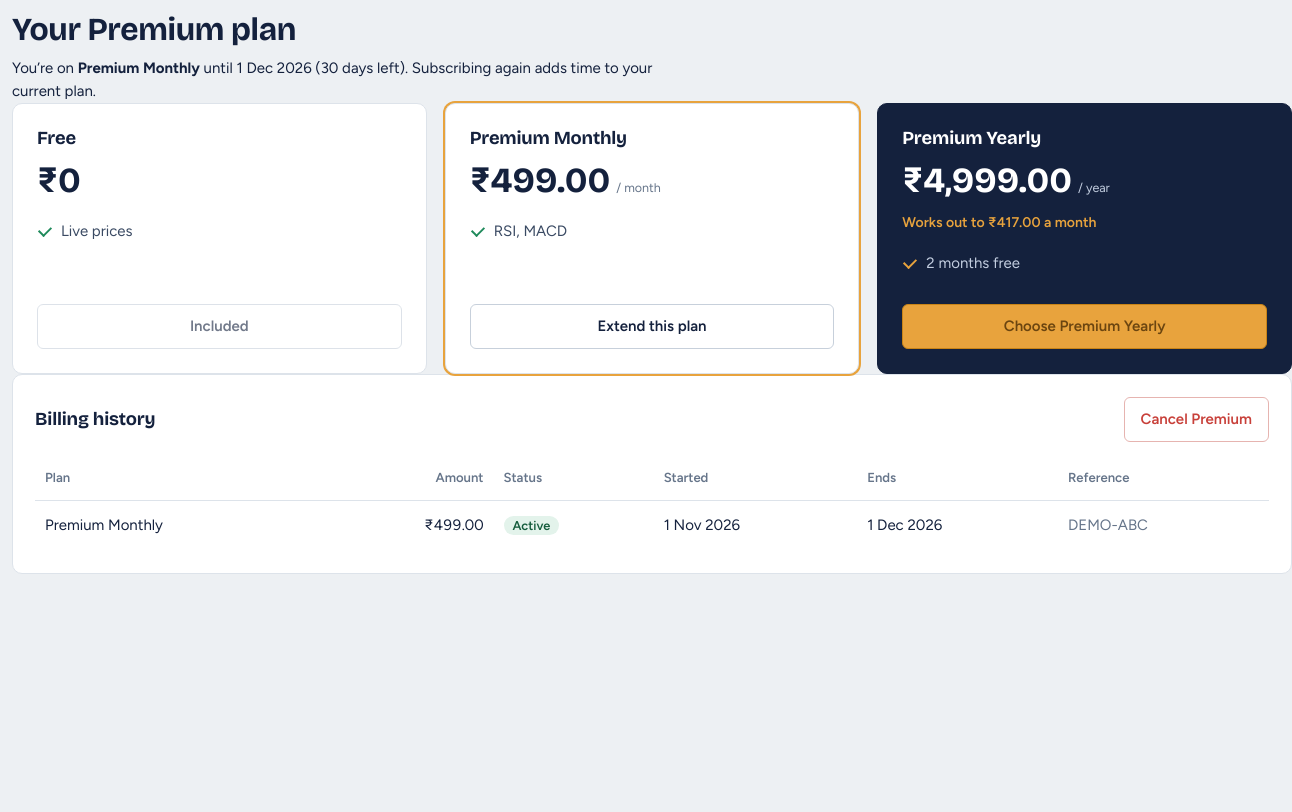
Test case: Premium plans page › shows plan status, billing history and lets Premium users cancel
The image size is (1292, 812).
Check: the text "30 days left" is shown, box [12,57,685,103]
Check: the text "DEMO-ABC" is shown, box [1058,501,1269,551]
Click the button "Cancel Premium" at (1196, 419), box [1124,397,1269,442]
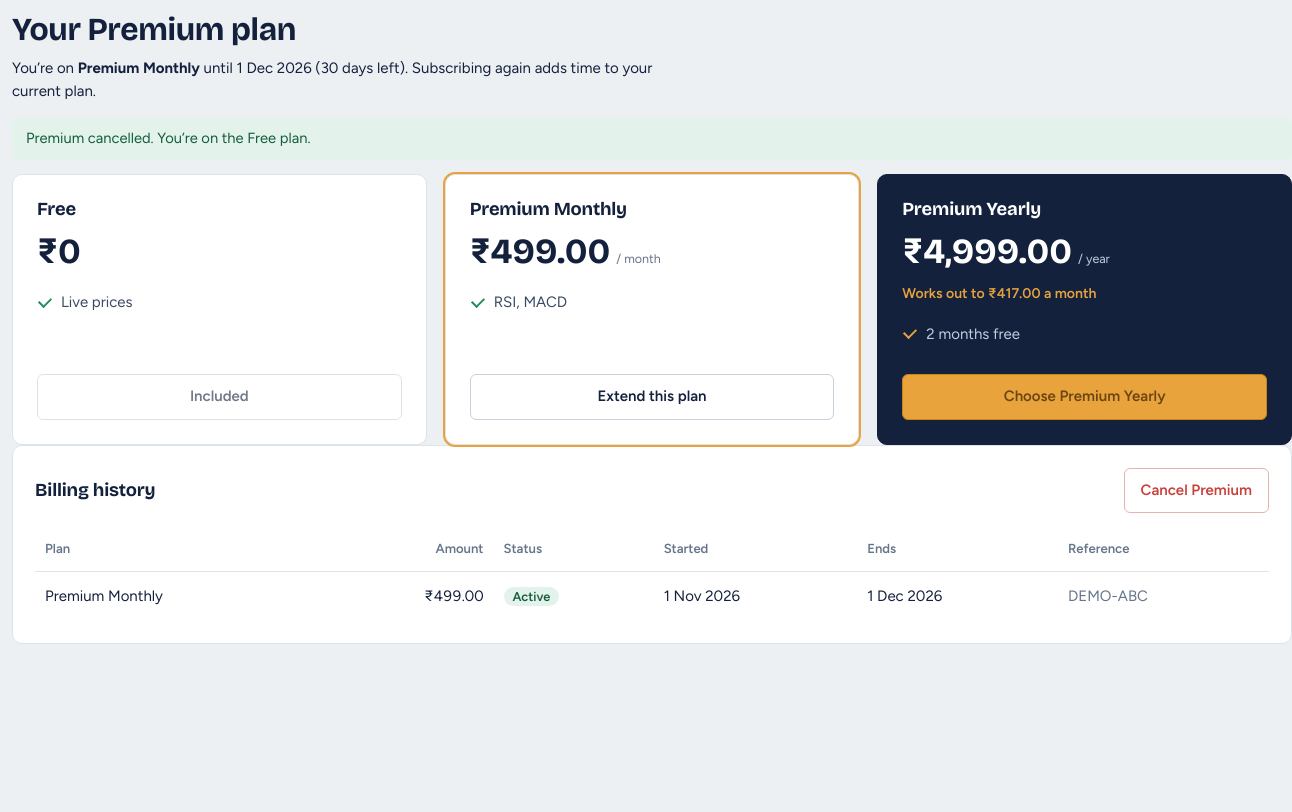
Check: the message shows "Premium cancelled", box [26,129,310,147]
